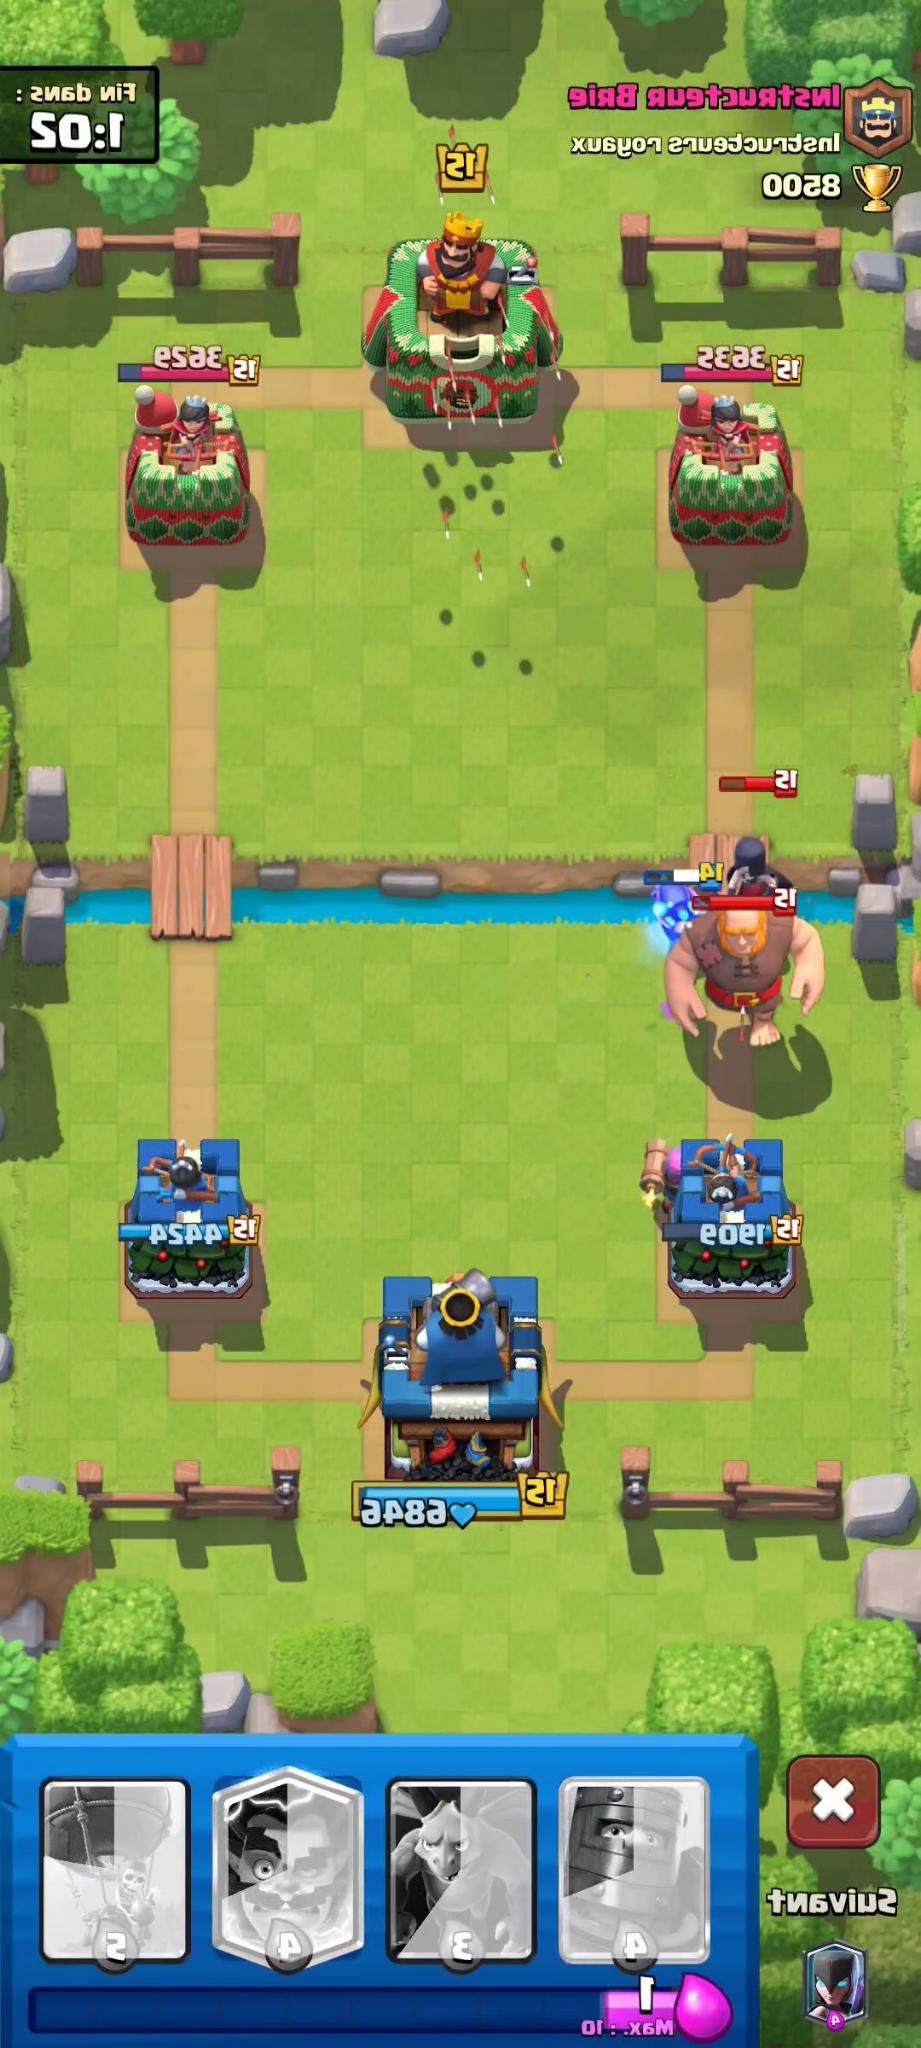enemy_arrows: (410, 400, 580, 618)
enemy_giant: (658, 882, 829, 1052)
enemy_night_witch: (701, 766, 805, 888)
player_firecraker: (634, 1133, 685, 1219)
